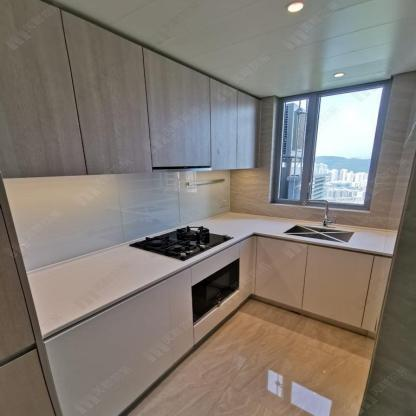Cupboard: (1, 0, 154, 179)
Faucet: (298, 195, 346, 227)
Oven: (189, 257, 241, 329)
Stove: (111, 220, 256, 268)
